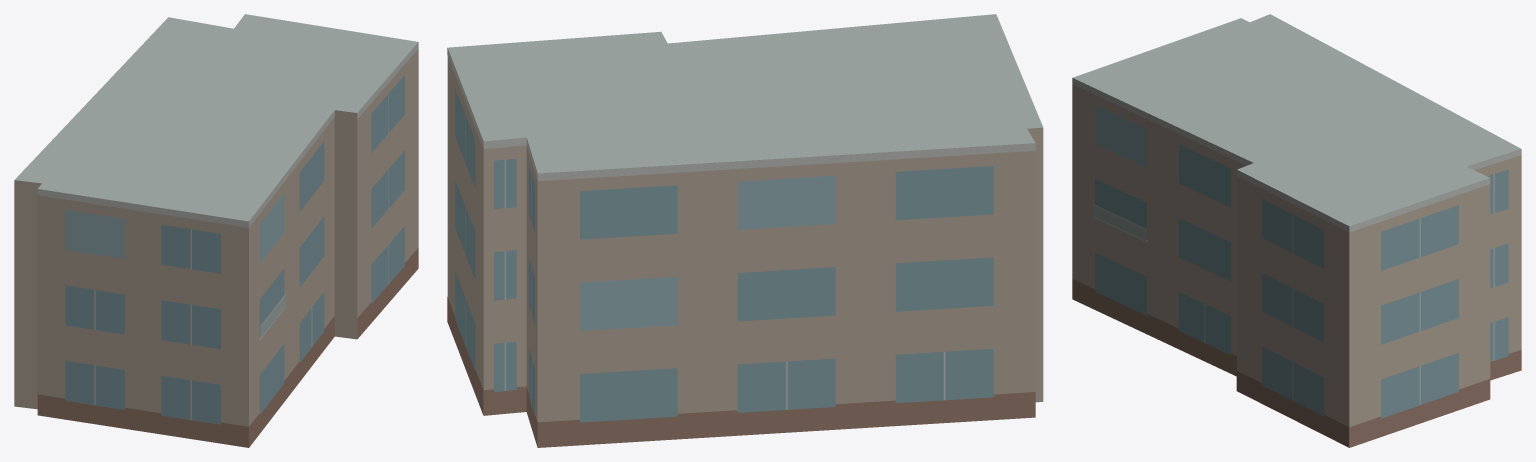
File: survey-upis-32666547.glb
3 views of the same model, side by side, from view 1: azimuth 30°, elevation 25°; view 2: azimuth 150°, elevation 25°; view 3: azimuth 270°, elevation 25° (orthographic). The views are drawn at different scales.
Visible parts, largest first — view 1: survey-upis-32666547.tmp; view 2: survey-upis-32666547.tmp; view 3: survey-upis-32666547.tmp.
Boxes of the visible parts, <box> form: survey-upis-32666547.tmp: <box>14,14,418,447</box>; survey-upis-32666547.tmp: <box>447,14,1043,447</box>; survey-upis-32666547.tmp: <box>1072,14,1521,447</box>.
Bounding box in the file's own units: 17.89 × 8.7 × 15.99.
